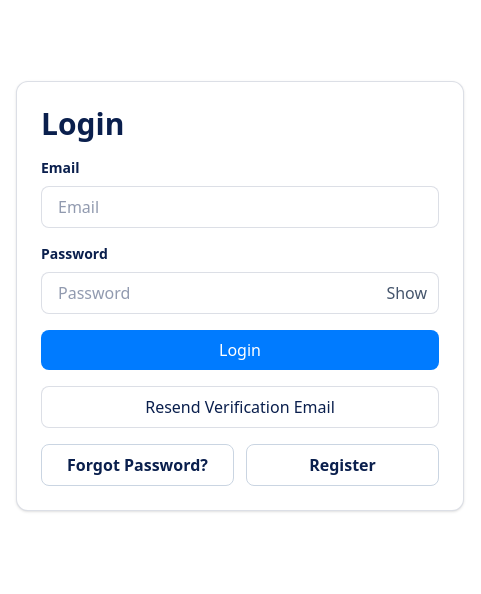
Test: LoginPage › resends verification using the entered email address
In the field labelled "Email": (240, 207) 41,186 -> 439,228, type " Sean@Example.com "
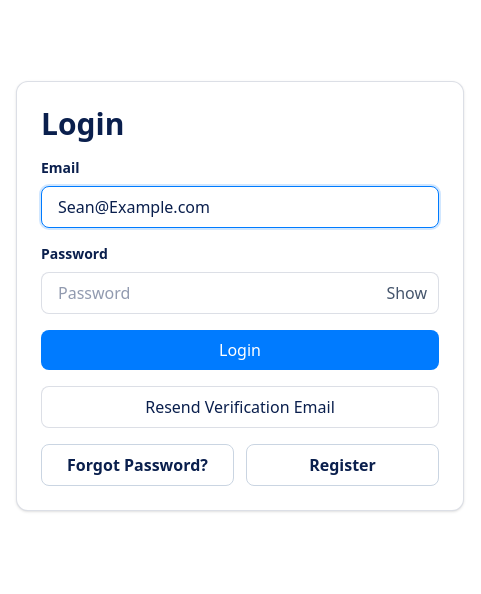
Click the button "Resend Verification Email": (240, 407) 41,386 -> 439,428
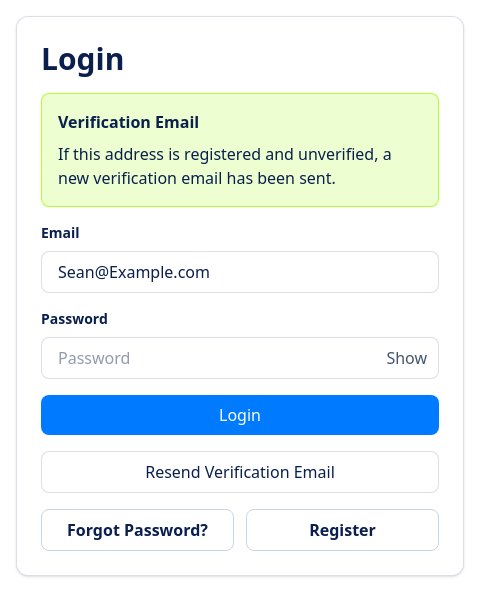
Now the text "a new verification email has been sent" is shown, box 58,143 -> 392,189
